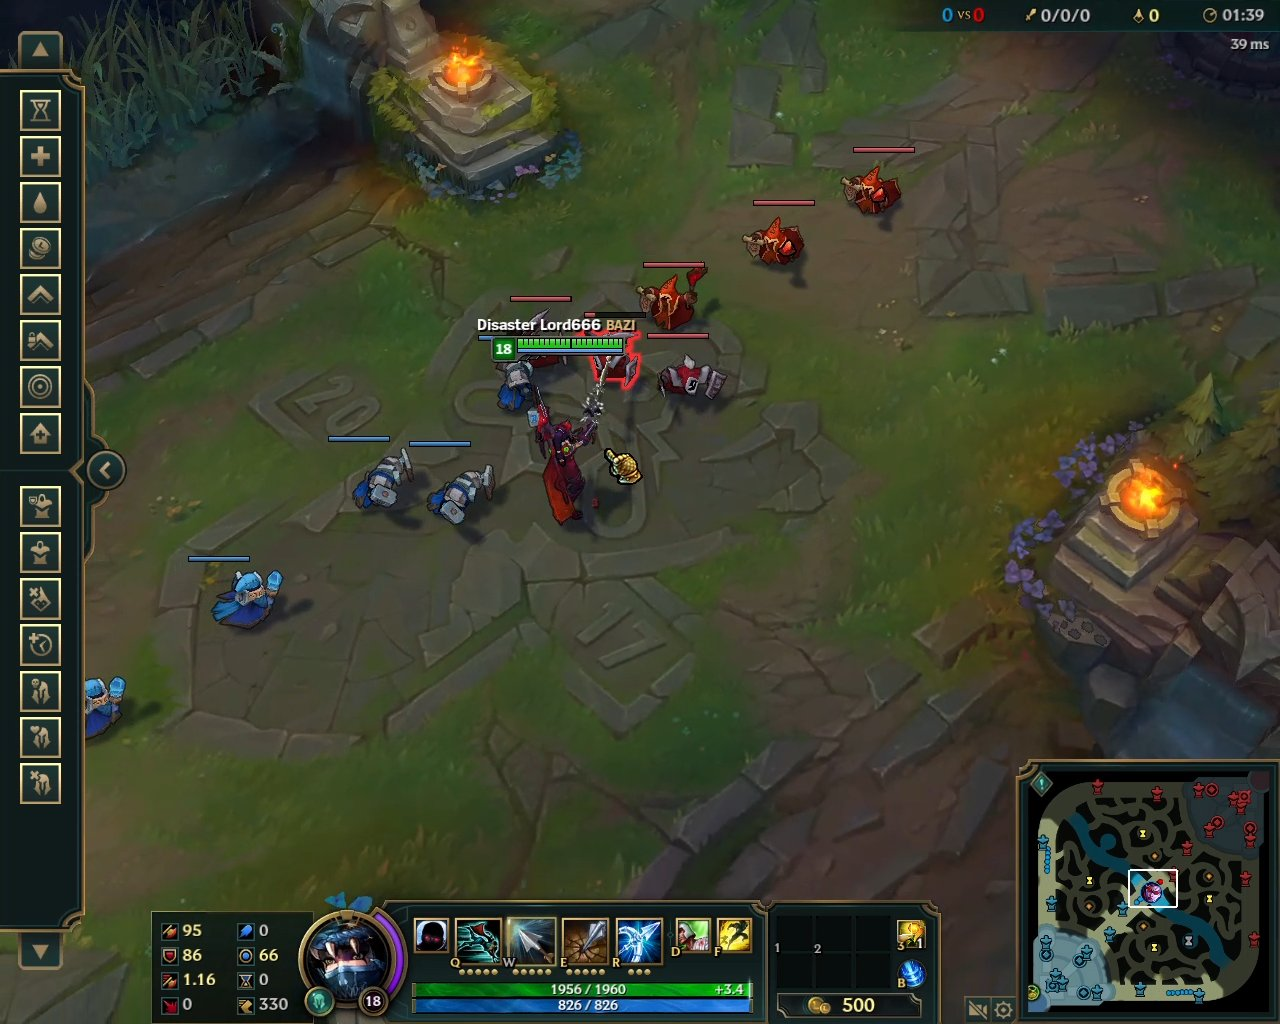EnemyMinion: (645, 333, 731, 412), (736, 199, 816, 271), (632, 261, 709, 331), (842, 147, 912, 220)
Vayne: (523, 385, 616, 532)
